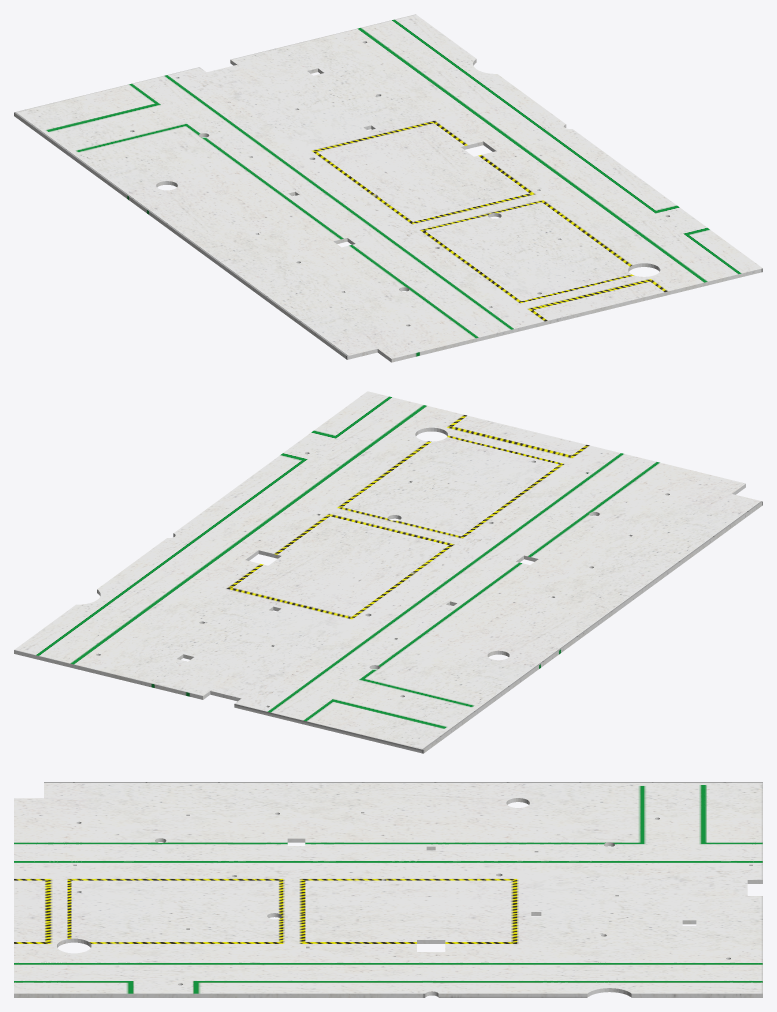
File: newaws.dae
The picture shows the model from 3 angles, top to bottom: view 1: azimuth 30°, elevation 25°; view 2: azimuth 150°, elevation 25°; view 3: azimuth 270°, elevation 25°; orthographic projection. The views are drawn at different scales.
Parts seen in each view (by area): view 1: aws3; view 2: aws3; view 3: aws3.
Part boxes in pixels (x1,y1,x2,y2): aws3: (14, 14, 762, 362); aws3: (14, 391, 762, 753); aws3: (14, 782, 762, 997).
Bounding box in the file's own units: 13.98 × 20.91 × 0.1243.
Materials: 1 (1 with a texture image).
